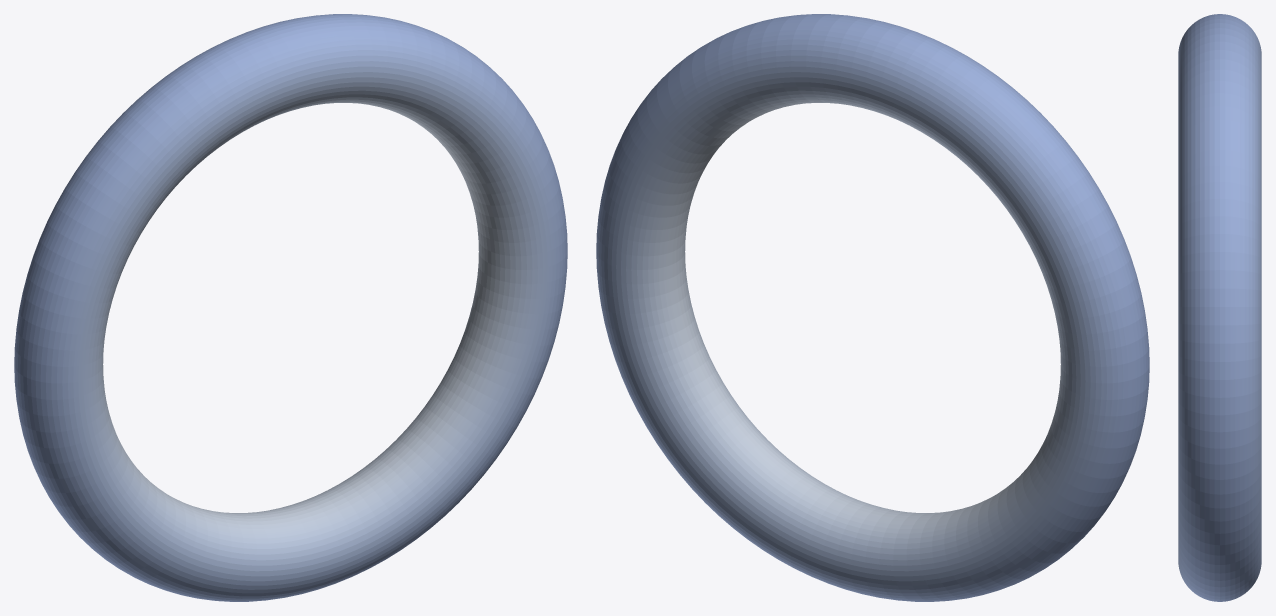
The picture shows the model from 3 angles, left to right: view 1: azimuth 30°, elevation 25°; view 2: azimuth 150°, elevation 25°; view 3: azimuth 270°, elevation 25°; orthographic projection. The views are drawn at different scales.
Parts seen in each view (by area): view 1: world; view 2: world; view 3: world.
Part boxes in pixels (box(x1,y1,x2,y2)): world: box(14, 14, 567, 601); world: box(596, 14, 1149, 601); world: box(1178, 14, 1261, 601).
Size of the model in its own units: 27.2 by 27.2 by 3.86.
